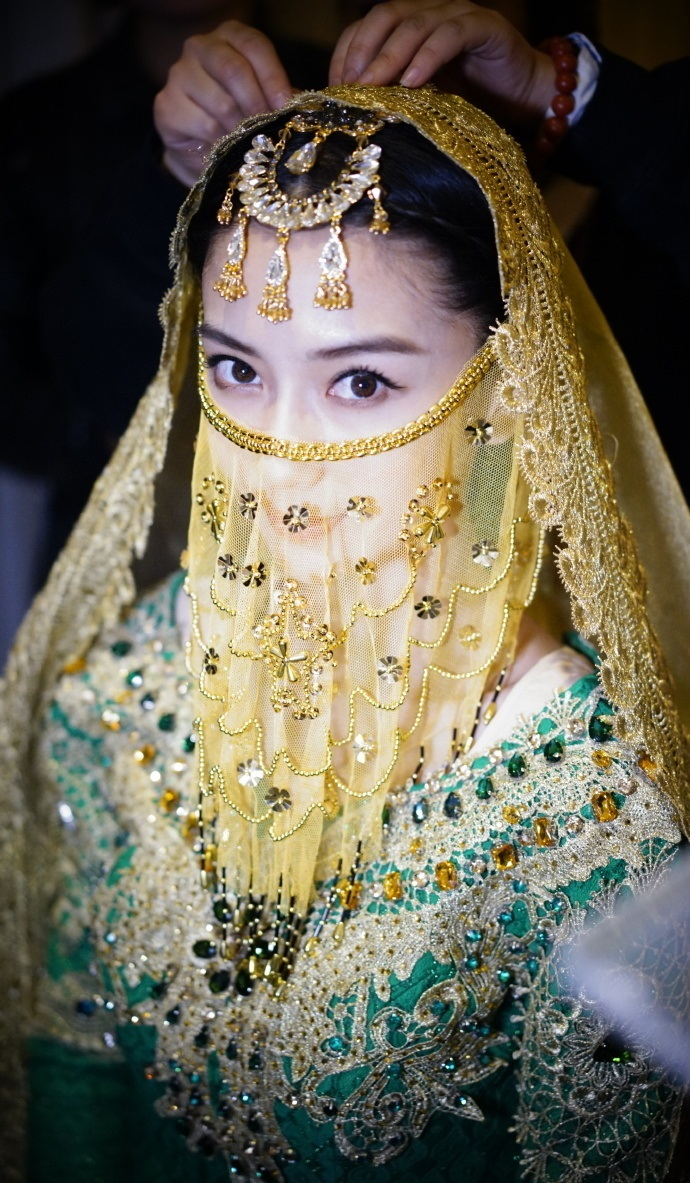face: (189, 191, 458, 572)
